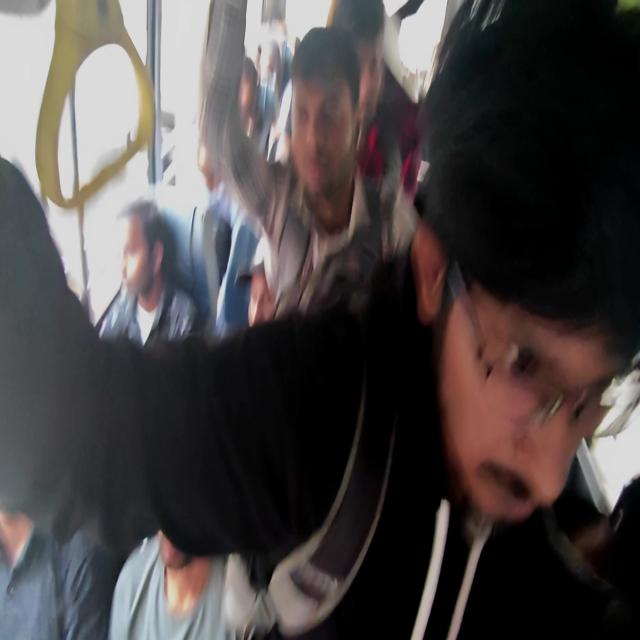person: (2, 1, 638, 637), (197, 2, 420, 332), (93, 196, 202, 349)
